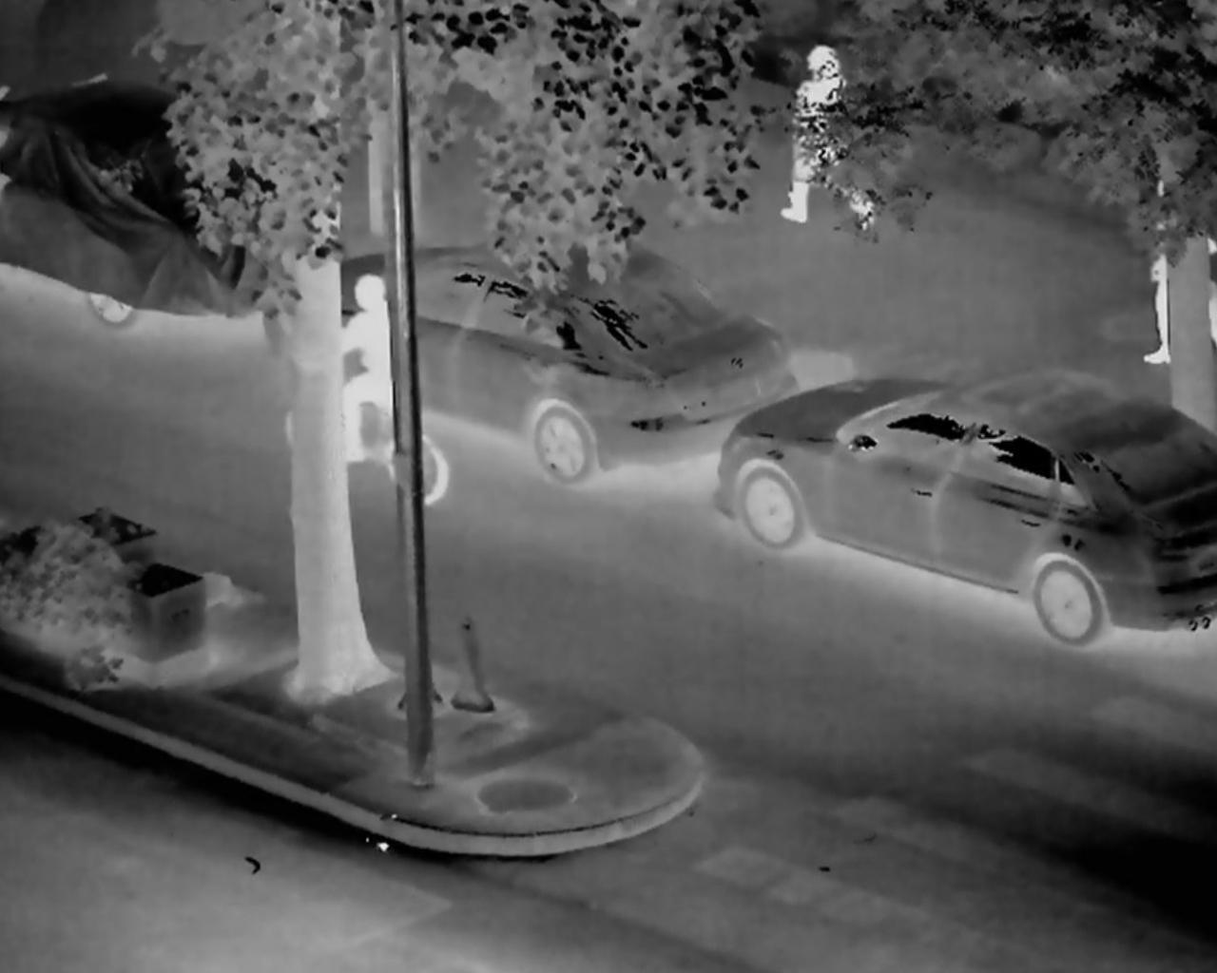person: (305, 270, 412, 471), (781, 42, 885, 242), (1142, 171, 1217, 369)
